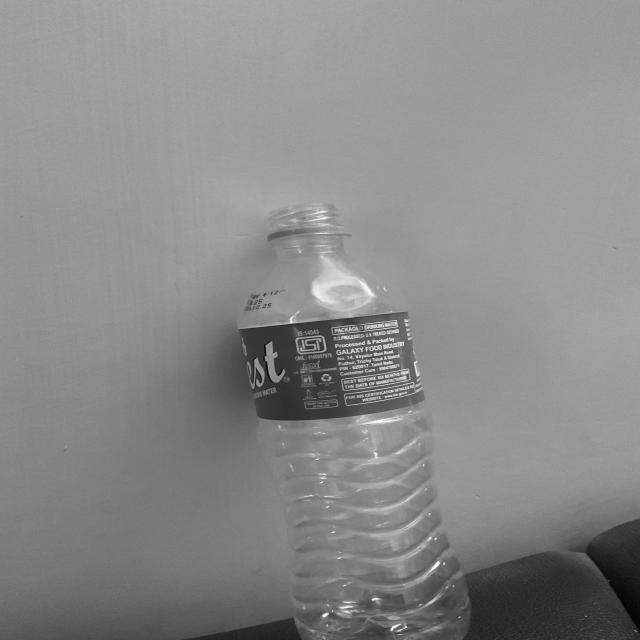open-cap: (262, 205, 345, 239)
